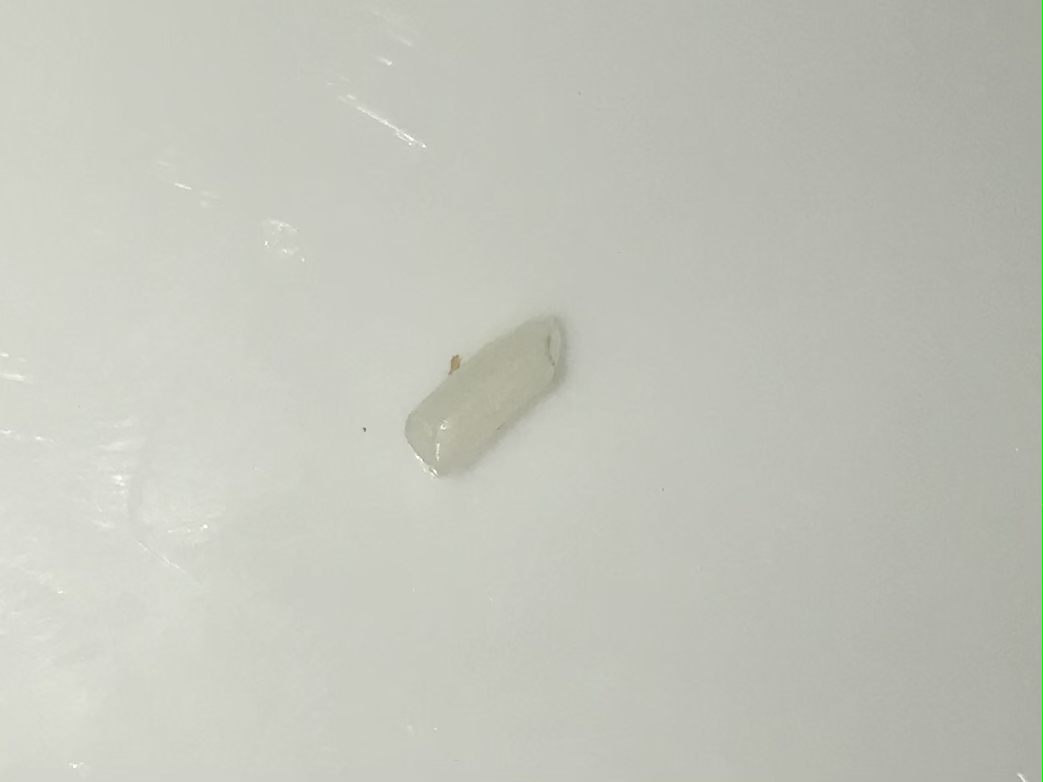Gao Tam: (389, 311, 593, 525)
